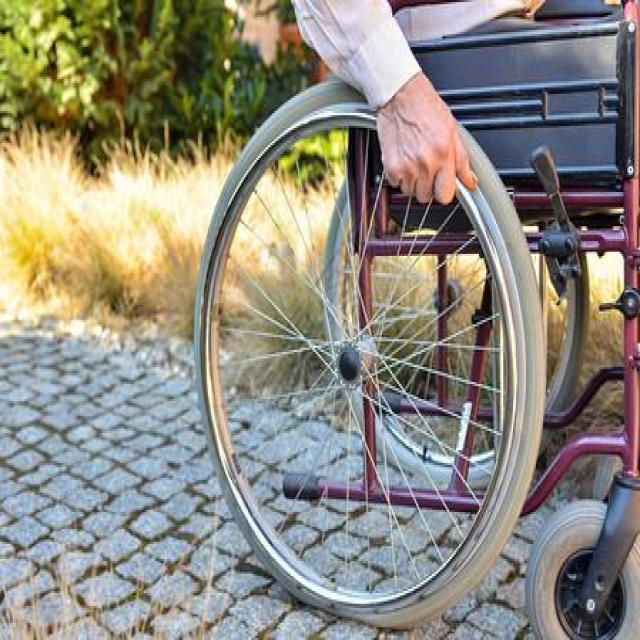wheelchairs: (195, 0, 640, 640)
